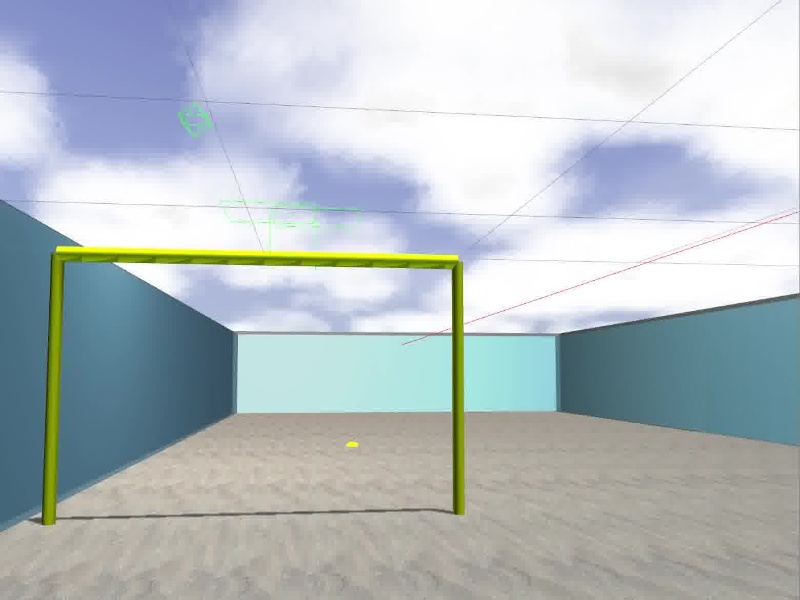gate: (43, 245, 468, 528)
